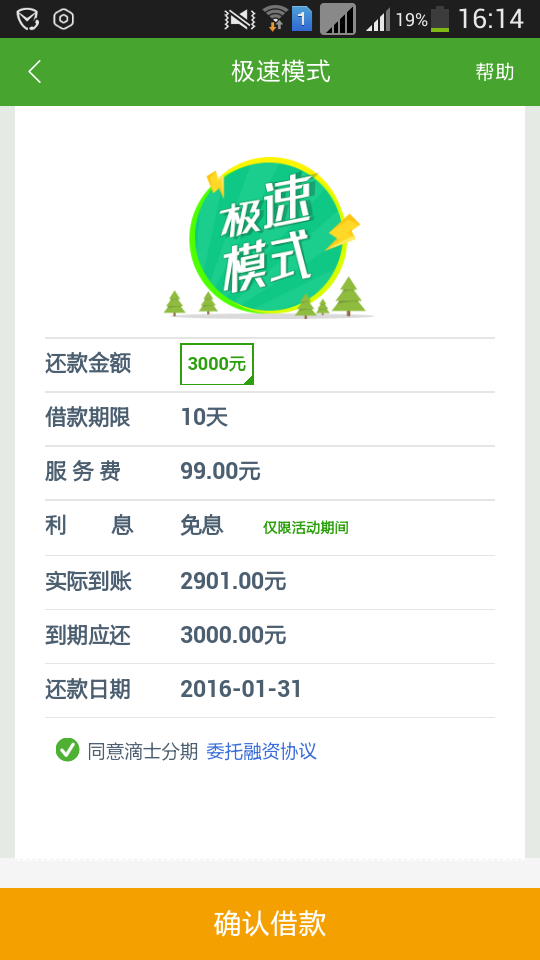button: (1, 883, 540, 959)
checkbox: (52, 733, 334, 770)
imgview: (151, 142, 387, 327)
textview: (38, 337, 506, 729)
